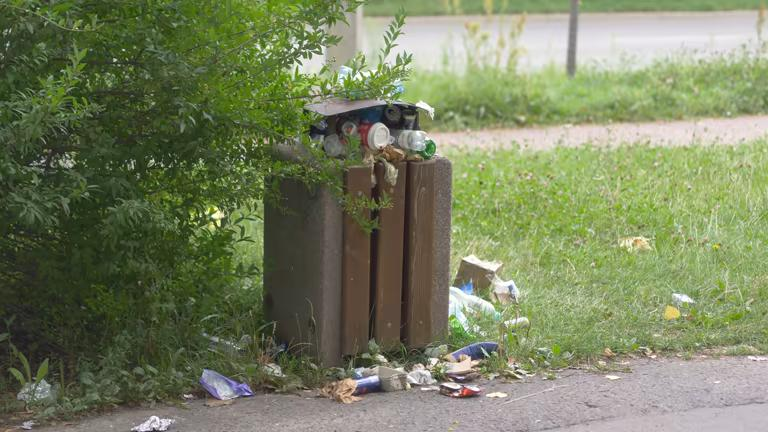trash: (317, 334, 530, 408), (295, 95, 447, 163), (191, 331, 298, 398), (448, 245, 507, 302), (441, 286, 499, 335), (14, 369, 57, 405), (488, 273, 530, 308), (132, 414, 176, 432), (494, 314, 531, 334), (672, 288, 698, 308), (21, 413, 42, 430)
trash_can_overflow: (250, 68, 511, 402)
